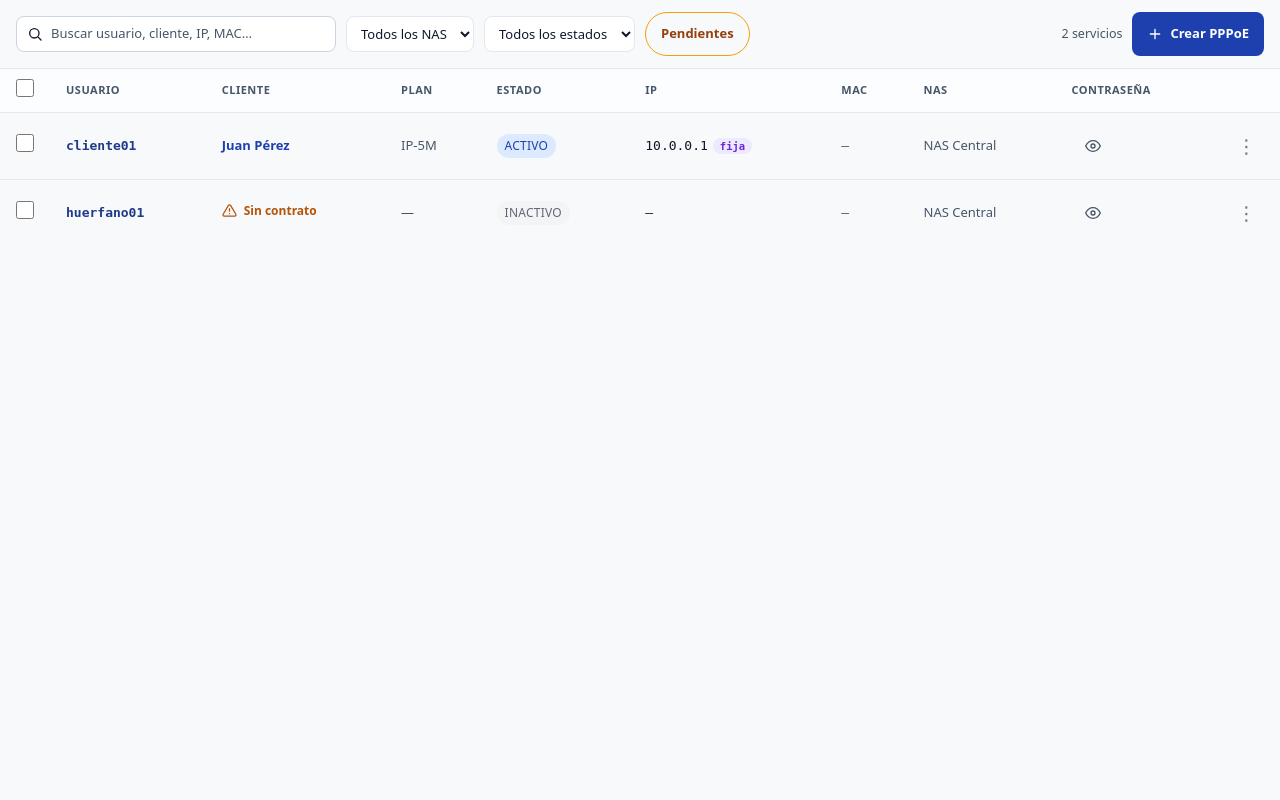
Scenario: PppoeManagementTab — F2: error feedback en mutaciones › muestra error inline en EditPppoeModal cuando mutateAsync rechaza
Click the button named "Acciones".
click(1246, 146)  # box 1229,132 -> 1264,159
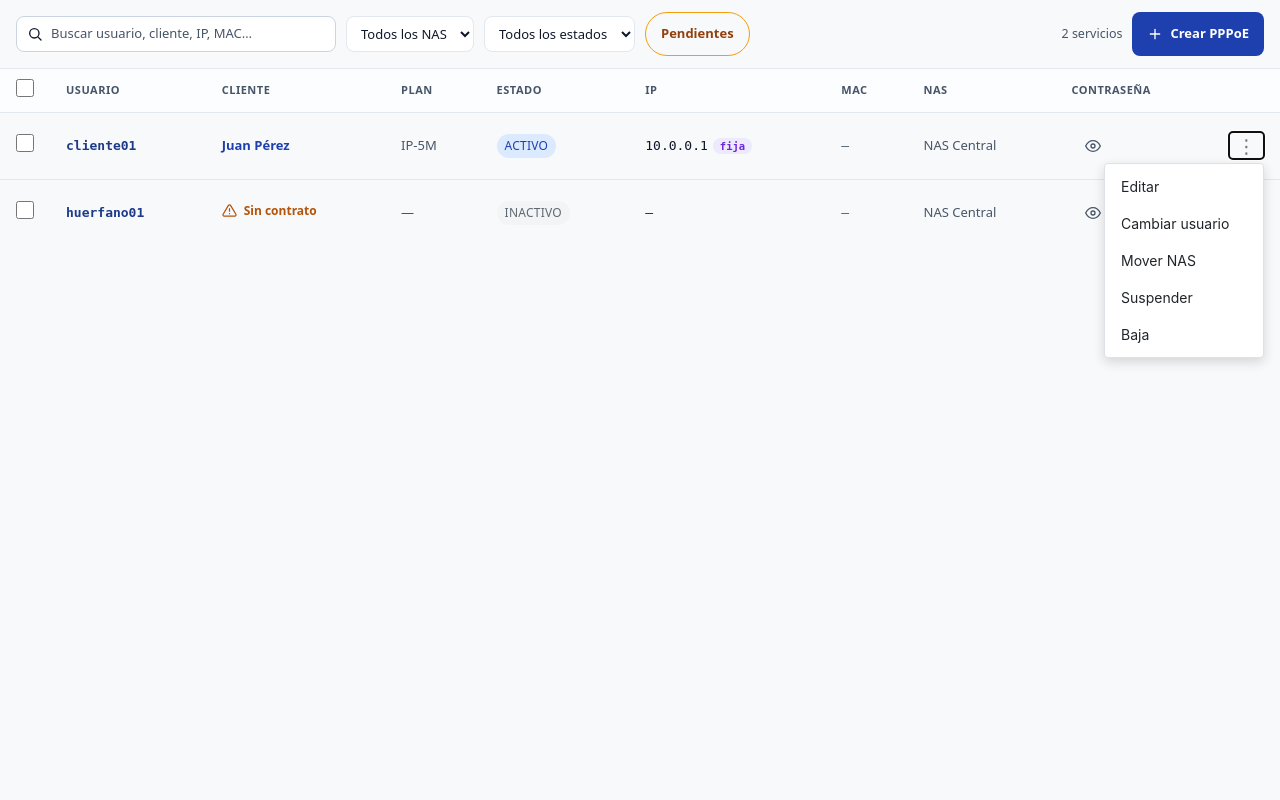
Click the menu item "Editar".
click(1184, 187)  # box 1105,168 -> 1263,205
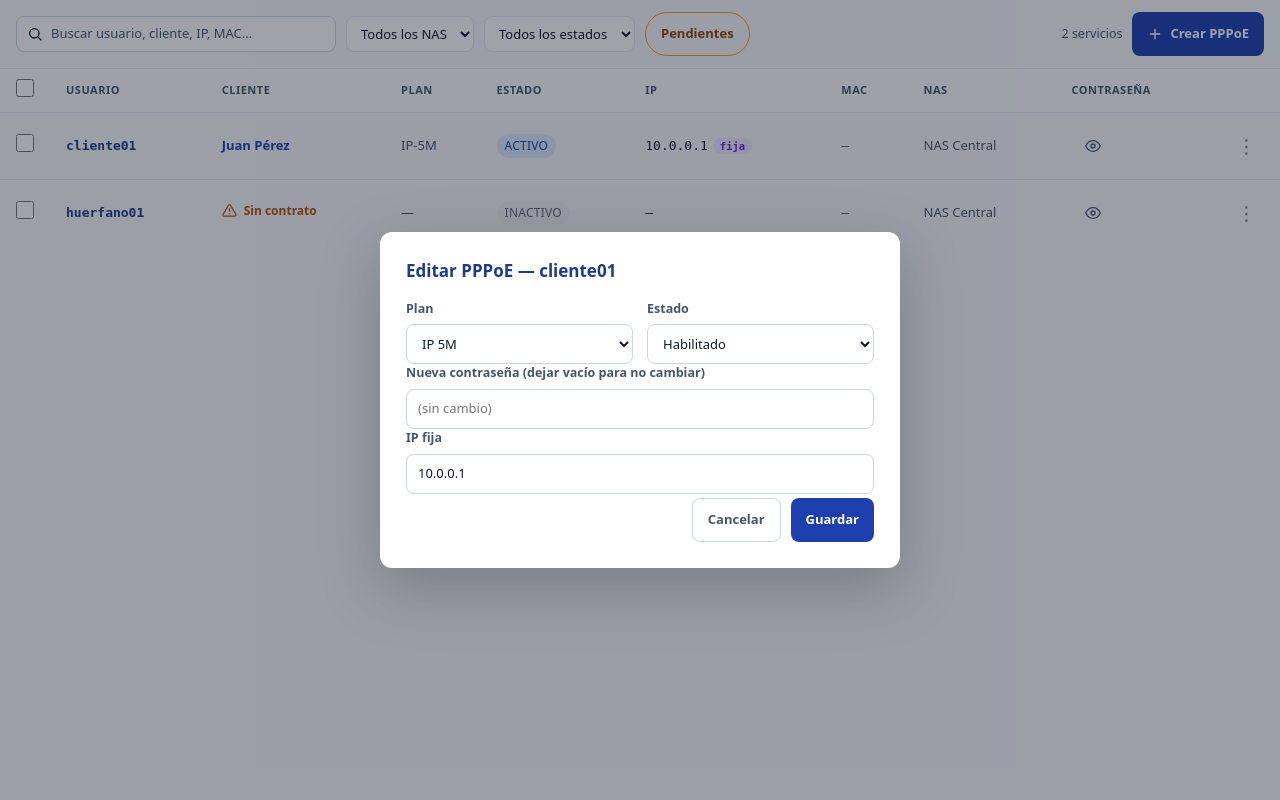
Click the button "Guardar".
click(832, 520)  # box 791,498 -> 874,542
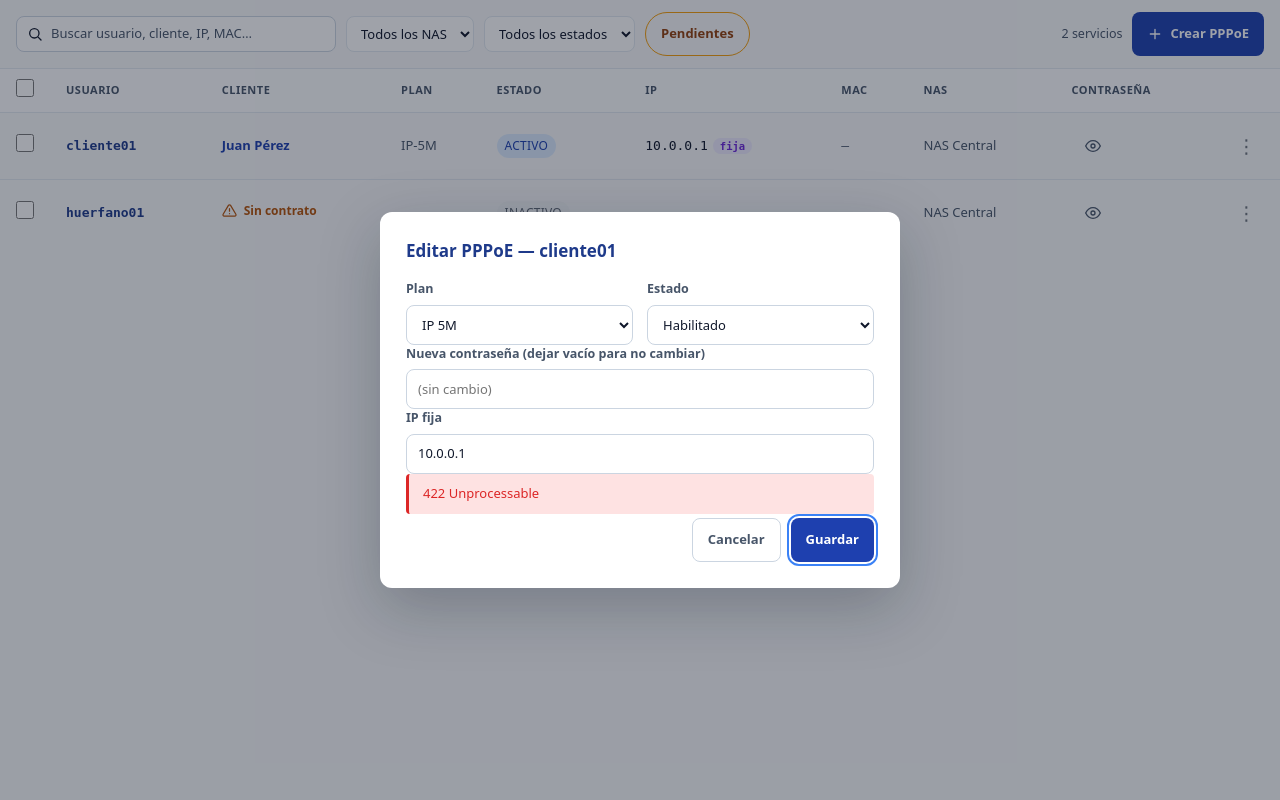
Expected: the dialog is shown, 380,212 -> 900,588
Expected: the message "422 Unprocessable" is shown, 406,474 -> 874,514
